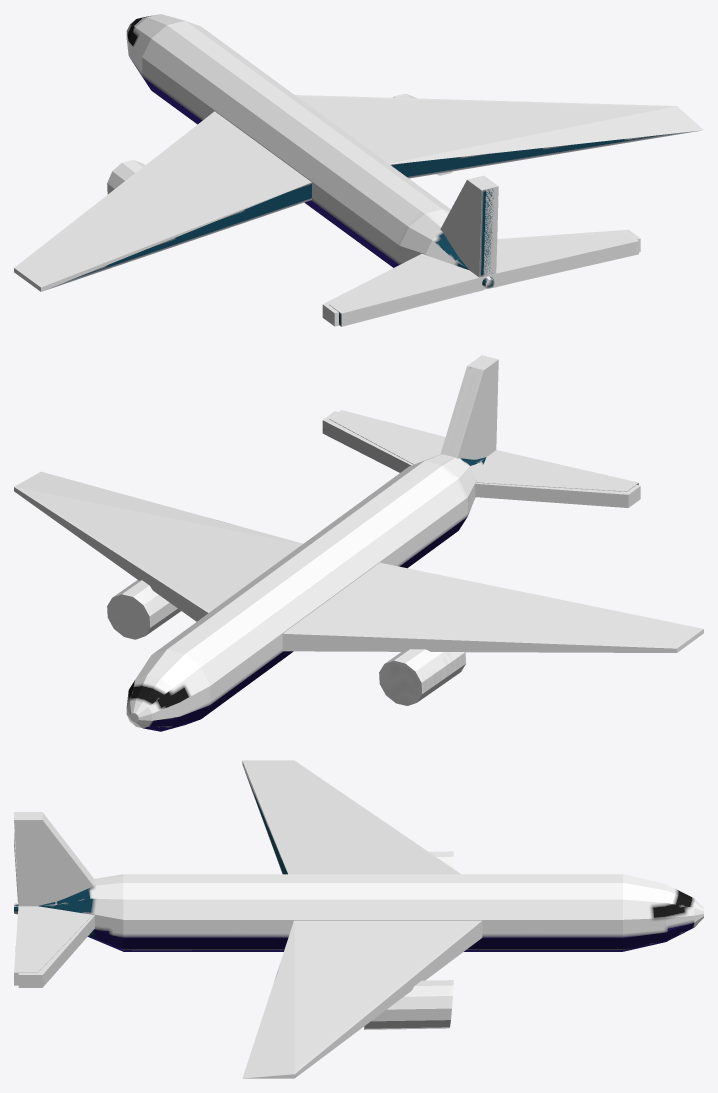
File: Airplane.fbx
The picture shows the model from 3 angles, top to bottom: view 1: azimuth 30°, elevation 25°; view 2: azimuth 150°, elevation 25°; view 3: azimuth 270°, elevation 25°; orthographic projection. The views are drawn at different scales.
Parts seen in each view (by area): view 1: cylinder, cuboid_1, cuboid, cuboid_3, cuboid_6, cuboid_9, cuboid_5, cuboid_4, cylinder_1, cuboid_7; view 2: cylinder, cuboid, cuboid_1, cuboid_9, cuboid_5, cuboid_3, cylinder_1, cuboid_6, cylinder_2, cuboid_7, cuboid_2, cuboid_4; view 3: cylinder, cuboid_1, cuboid, cuboid_4, cuboid_9, cuboid_6, cylinder_2, cuboid_2, cuboid_5.
Boxes of the visible parts, x1,y1,x2,y2 form: cylinder: (126,14,494,288); cuboid_1: (295,95,703,178); cuboid: (14,111,311,291); cuboid_3: (329,254,487,326); cuboid_6: (487,232,638,288); cuboid_9: (14,182,311,291); cuboid_5: (440,177,494,277); cuboid_4: (472,175,498,276); cylinder_1: (107,160,145,194); cuboid_7: (322,253,483,326); cylinder: (126,454,486,731); cuboid: (282,563,702,652); cuboid_1: (14,471,302,621); cuboid_9: (380,562,703,648); cuboid_5: (445,356,498,459); cuboid_3: (476,450,638,491); cylinder_1: (379,649,466,705); cuboid_6: (329,410,445,464); cylinder_2: (107,580,180,639); cuboid_7: (475,482,640,507); cuboid_2: (322,411,413,472); cuboid_4: (440,355,493,456); cylinder: (14,874,703,951); cuboid_1: (242,920,482,1078); cuboid: (244,761,460,874); cuboid_4: (14,818,93,906); cuboid_9: (242,760,294,874); cuboid_6: (14,906,92,985); cylinder_2: (364,980,453,1029); cuboid_2: (18,915,94,987); cuboid_5: (14,812,93,883).
Size of the model in its own units: 975 by 213 by 906.
Materials: 1 (1 with a texture image).
